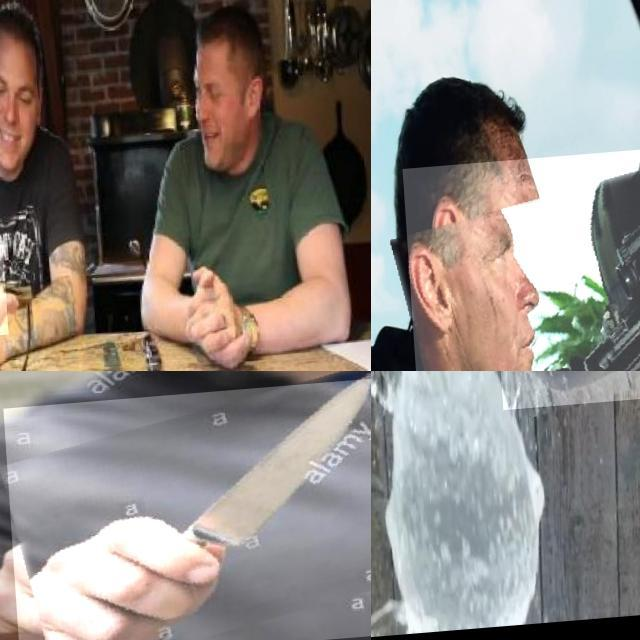-: (0, 384, 371, 640), (486, 371, 640, 480), (0, 248, 50, 344)
gun-knife-thesis - v11 Yolov5 augmented: (399, 138, 640, 371)
